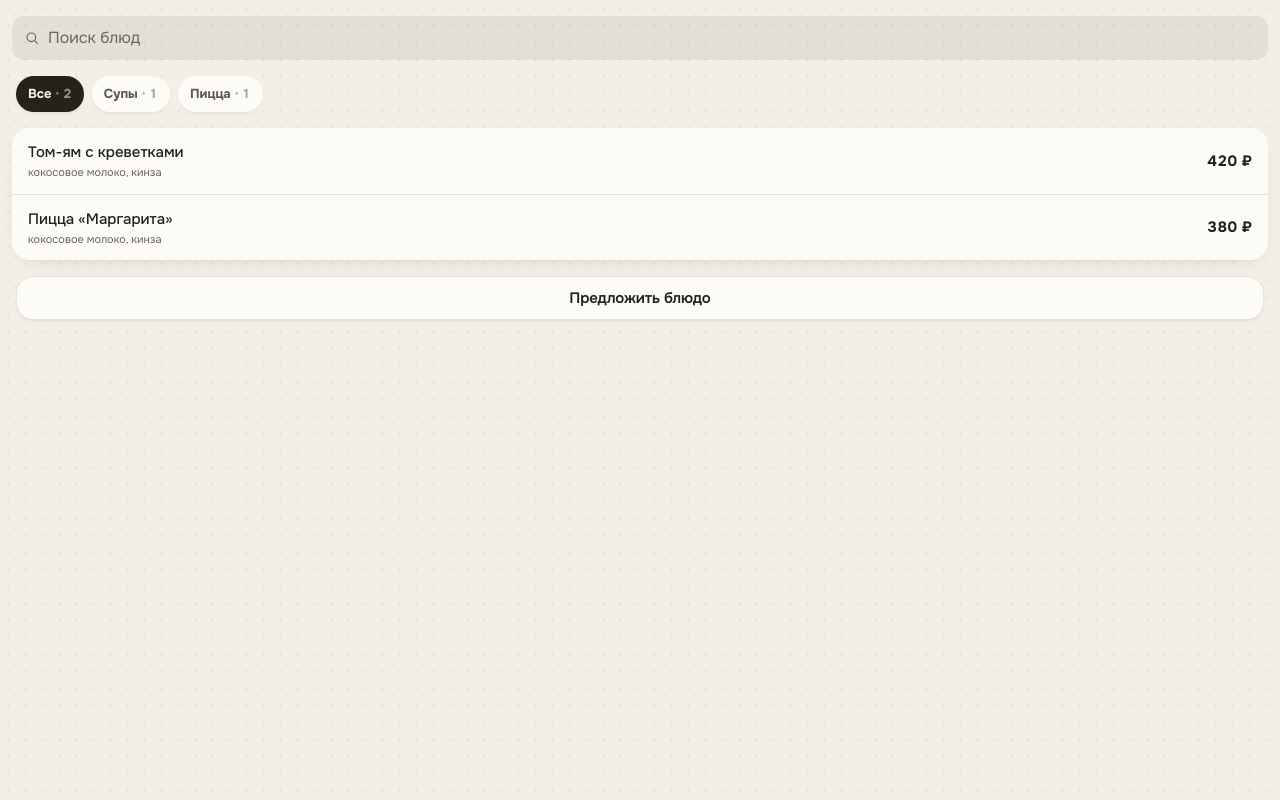
Test: MenuPage — участник › поиск фильтрует; пустой результат — EmptyState
Type "пицца" into the field labelled "Поиск блюд" at (652, 38), box [48,25,1256,51]
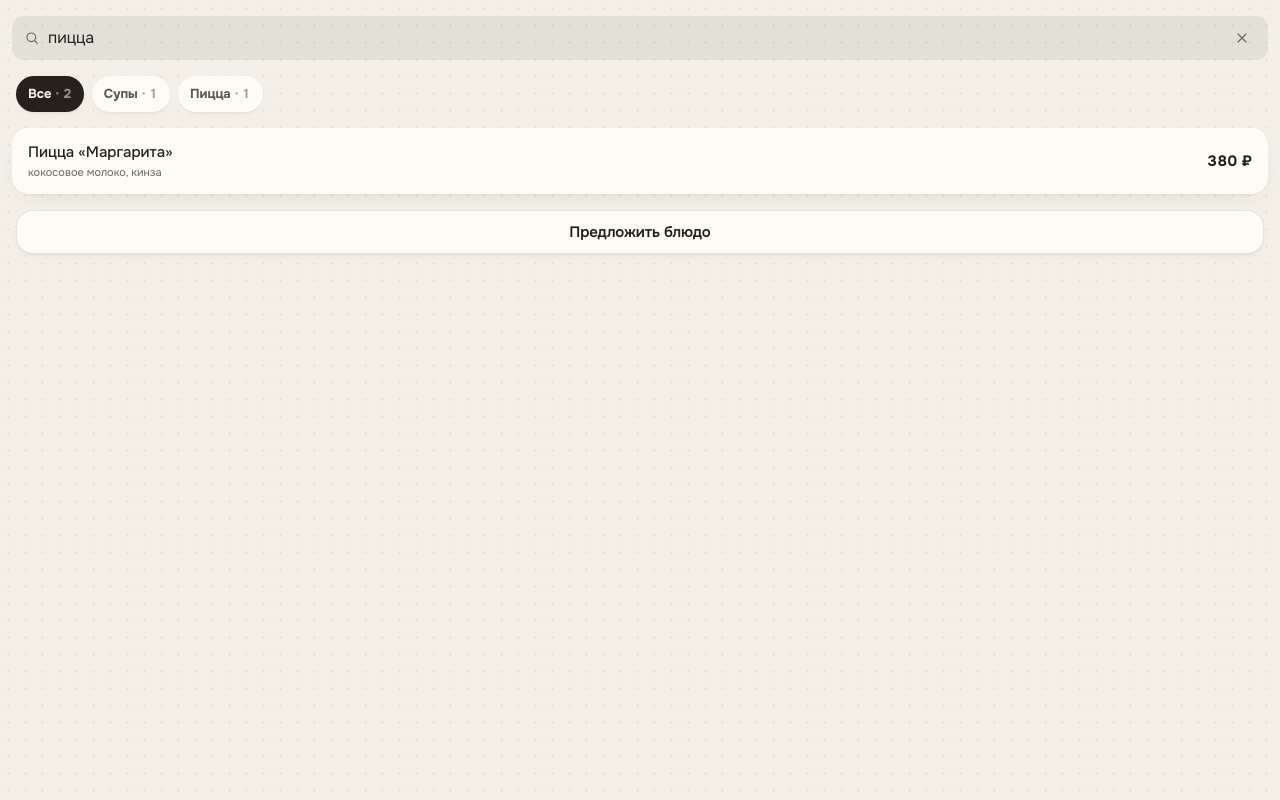
Expected: the text "Пицца «Маргарита»" is shown, [28,140,173,164]
Expected: the text "Том-ям с креветками" is gone
Replace the text in the field named "Поиск блюд" with "шаурма" at (630, 38), box [48,25,1212,51]
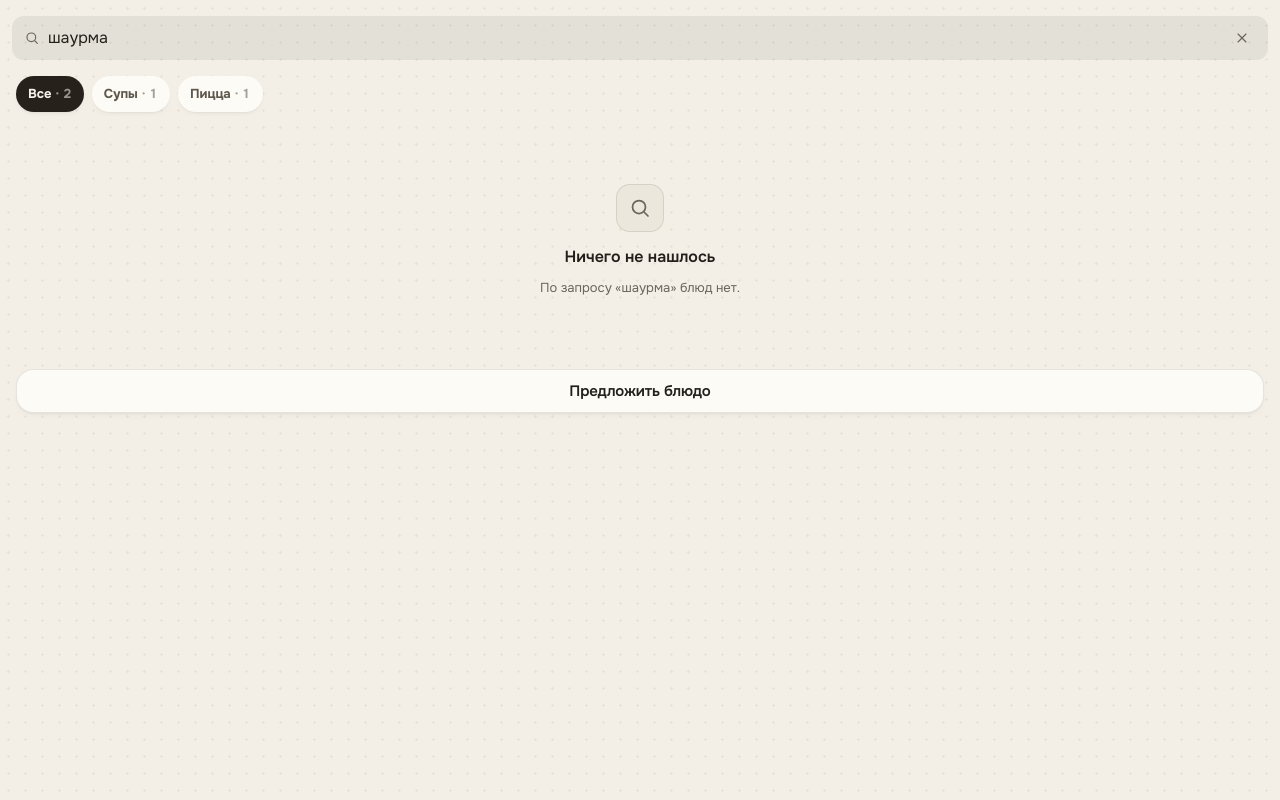
Expected: the heading "Ничего не нашлось" is shown, [564,244,716,270]
